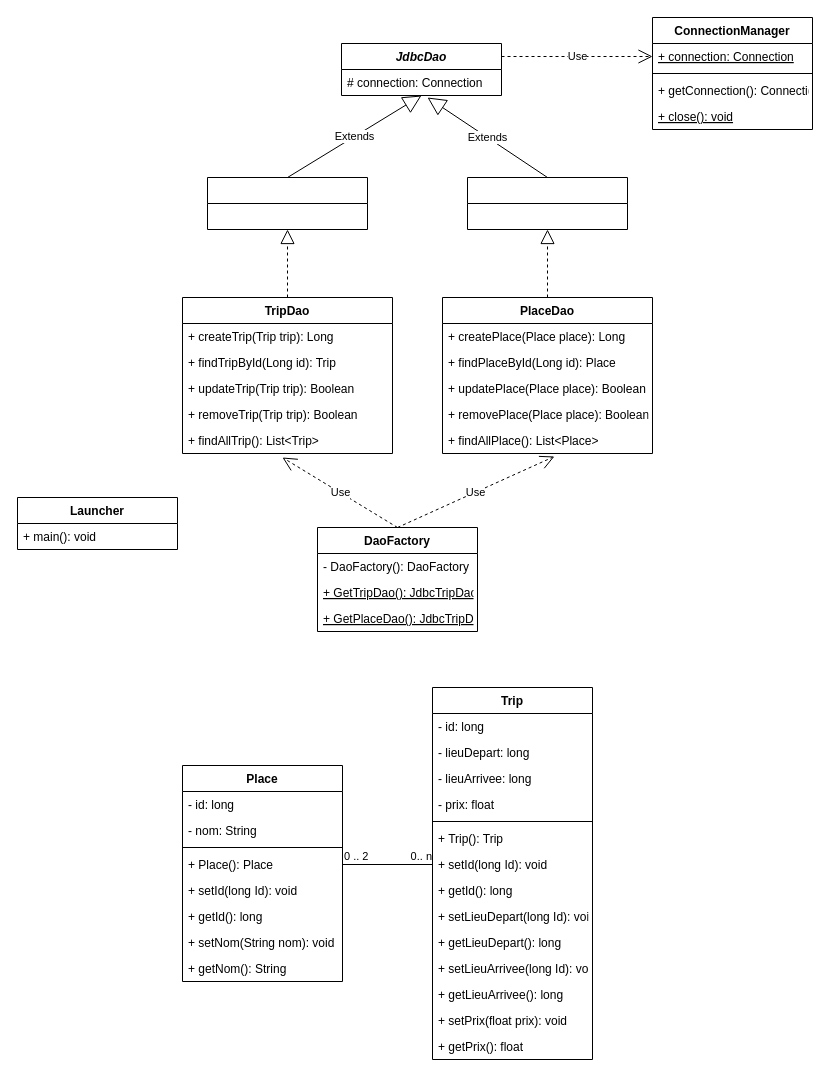
Some shapes in this 838 by 1080 pixel diagram are drawn without their labels. The shapes that lost their labels are listed below. From the top down, each one's centre as x and y in pixels, then its label:
[287,203]: JdbcTripDao
[547,203]: JdbcPlaceDao
